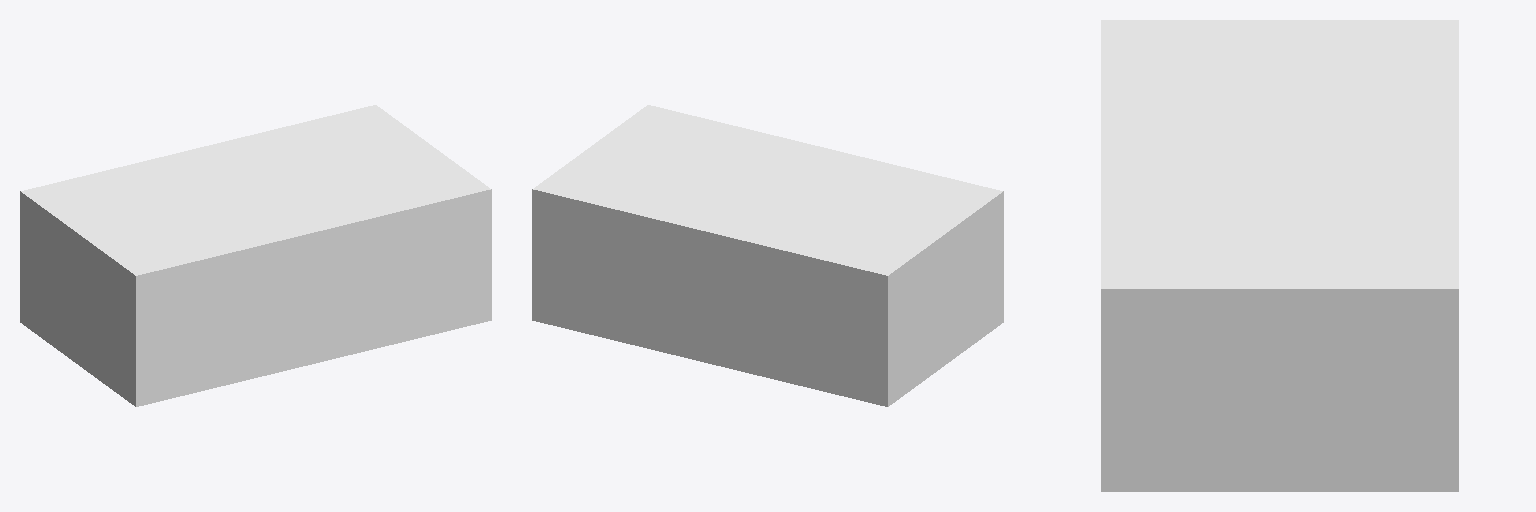
URDF robot description (box.SLDPRT):
<?xml version="1.0" encoding="utf-8"?>
<!-- This URDF was automatically created by SolidWorks to URDF Exporter! Originally created by [author] ([email redacted]) 
     Commit Version: 1.5.1-0-g916b5db  Build Version: 1.5.7152.31018
     For more information, please see http://wiki.ros.org/sw_urdf_exporter -->
<robot
  name="box.SLDPRT">
  <link
    name="box.SLDPRT">
    <inertial>
      <origin
        xyz="1.2996E-17 1.20353843572399E-16 0.16926"
        rpy="0 0 0" />
      <mass
        value="0.99" />
      <inertia
        ixx="1.73042"
        ixy="-1.2824E-17"
        ixz="-2.8299E-17"
        iyy="1.73042"
        iyz="2.85579897269348E-17"
        izz="1.0053" />
    </inertial>
    <visual>
      <origin
        xyz="0 0 0"
        rpy="1.5707963267949 0 0" />
      <geometry>
        <mesh
          filename="models/meshes/sponge/sponge.obj" scale="1.1 1.1 1.1"/>
      </geometry>
      <material
        name="">
        <color
          rgba="1 1 1 1" />
      </material>
    </visual>
    <collision>
      <origin
        xyz="0 0 0"
        rpy="1.5707963267949 0 0" />
      <geometry>
        <mesh
          filename="models/meshes/sponge/sponge.obj" scale="0.6 0.6 0.6"/>
      </geometry>
    </collision>
  </link>
</robot>

--- Render facts (derived) ---
3 views of the same robot in one strip: view 1: azimuth 30°, elevation 25°; view 2: azimuth 150°, elevation 25°; view 3: azimuth 270°, elevation 25° (orthographic).
Model box.SLDPRT with 1 links and 0 joints (none), rooted at box.SLDPRT, posed every joint at zero.
Links seen in each view (by area): view 1: box.SLDPRT; view 2: box.SLDPRT; view 3: box.SLDPRT.
Link boxes in pixels (box(x1,y1,x2,y2)): box.SLDPRT: box(20, 105, 491, 406); box.SLDPRT: box(532, 105, 1003, 406); box.SLDPRT: box(1101, 20, 1458, 491).
Bounding box of the posed robot: 0.154 × 0.0867 × 0.0544 m (x, y, z).
Meshes: 1 distinct files referenced, 1 mesh visuals loaded (1 OBJ).